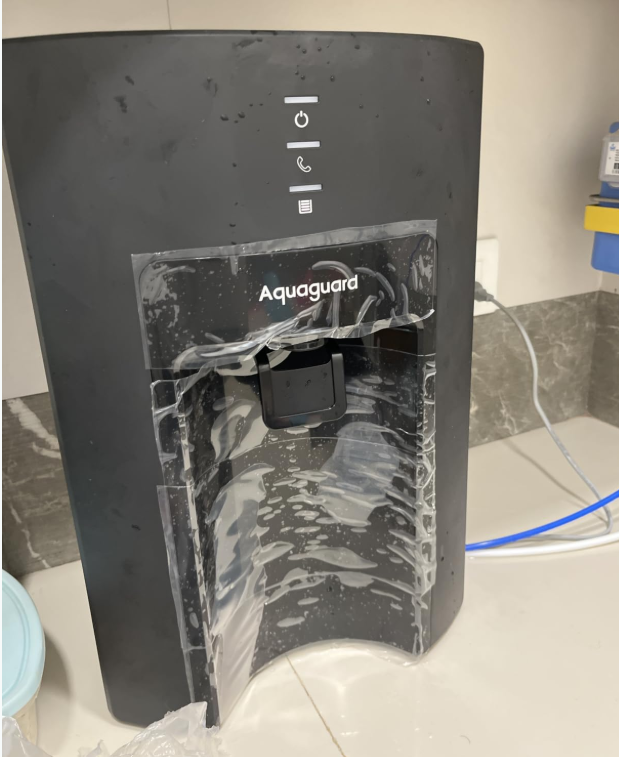water purifier: (0, 19, 494, 746)
